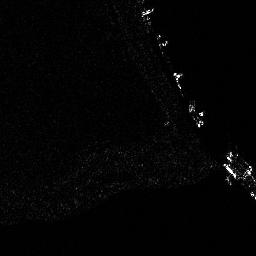ship: (188, 104, 205, 128)
